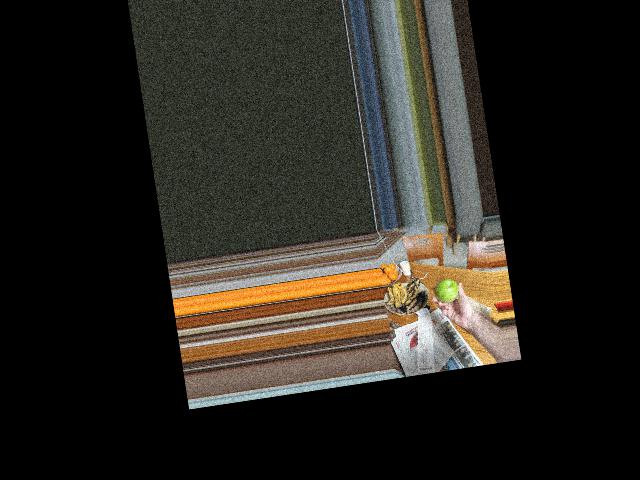apple: (432, 275, 461, 306)
